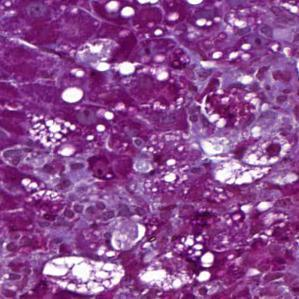ballooning: (197, 131, 293, 188), (39, 253, 127, 296)
